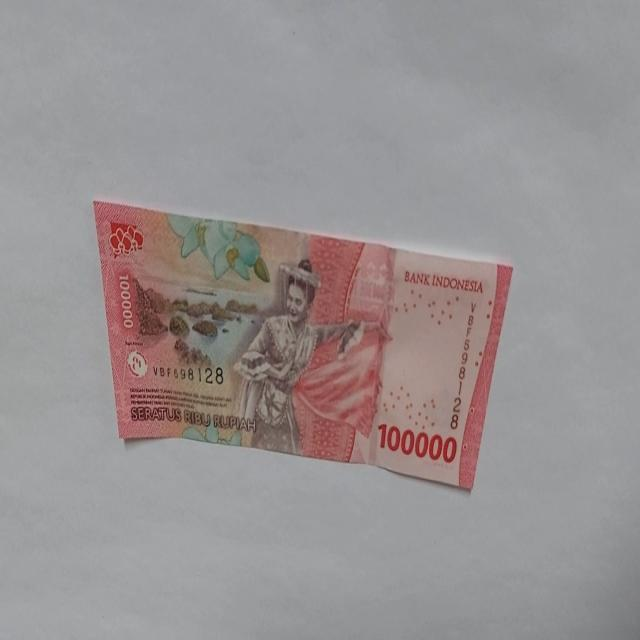seratus ribu rupiah: (92, 198, 514, 492), (230, 258, 366, 457)
